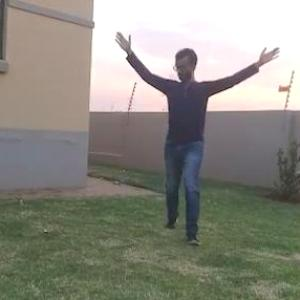takeoff: (111, 12, 296, 250)
